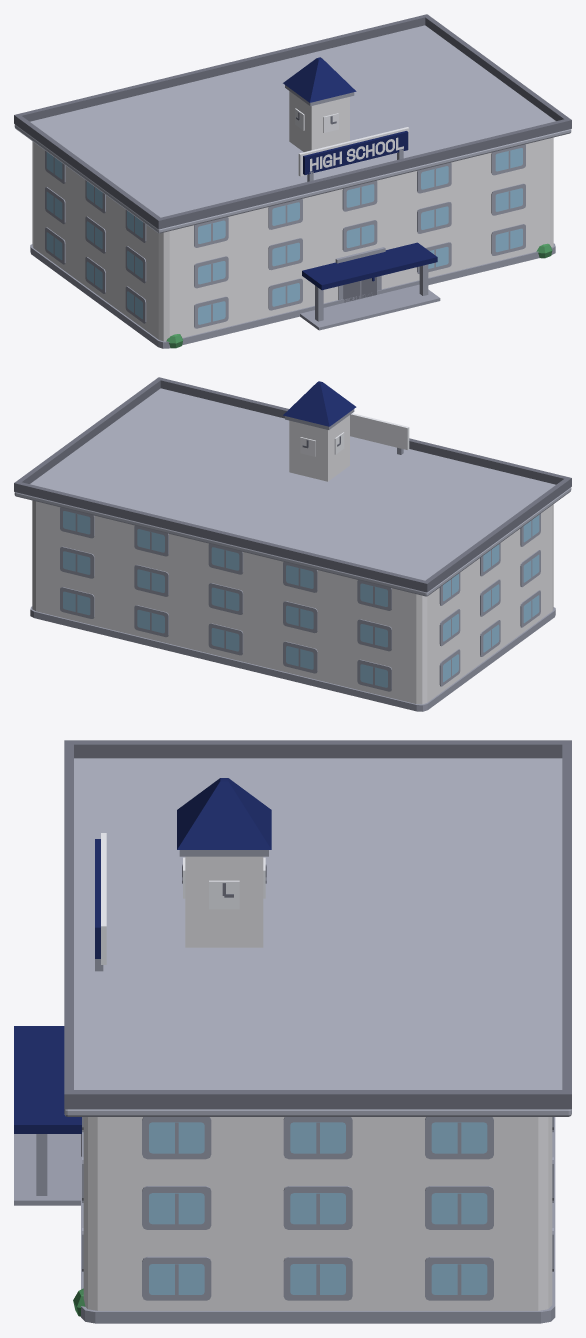
Rendered from high-school-3x2-3f.glb.
3 renders of one model, top to bottom at view 1: azimuth 30°, elevation 25°; view 2: azimuth 150°, elevation 25°; view 3: azimuth 270°, elevation 25°, orthographic. The views are drawn at different scales.
Parts seen in each view (by area): view 1: high-school-3x2-3f; view 2: high-school-3x2-3f; view 3: high-school-3x2-3f.
Boxes of the visible parts, left/top/right/bottom form: high-school-3x2-3f: left=14, top=14, right=571, bottom=348; high-school-3x2-3f: left=14, top=377, right=571, bottom=711; high-school-3x2-3f: left=14, top=740, right=571, bottom=1323.
Bounding box in the file's own units: 3 × 1.48 × 2.
1 material, 1 textured.
